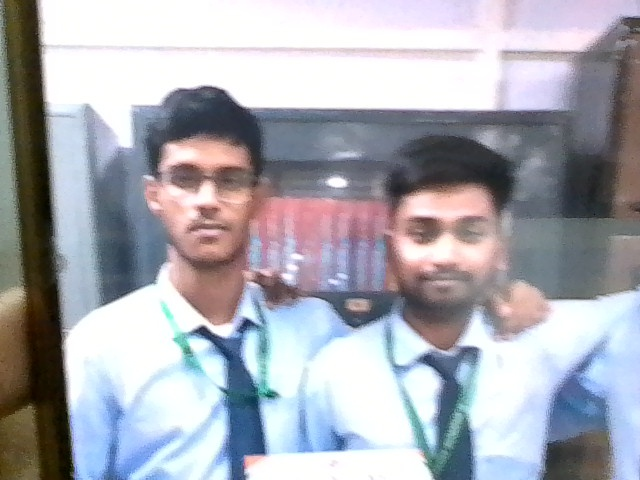real: (146, 97, 267, 268)
